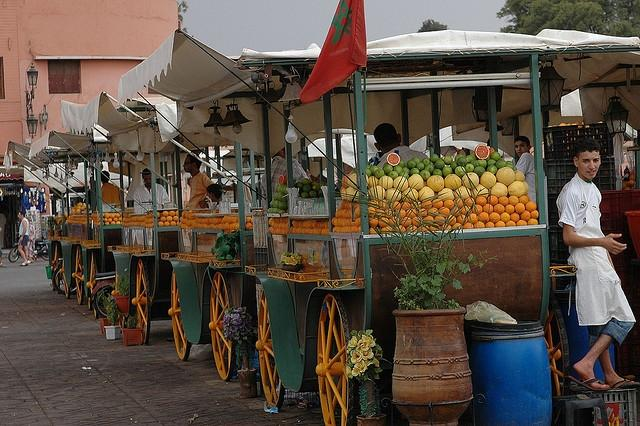lime: (374, 168, 384, 178), (457, 156, 467, 166), (434, 160, 444, 170), (432, 168, 442, 177), (487, 158, 496, 167), (279, 201, 288, 210), (496, 160, 504, 170), (416, 162, 424, 172), (470, 160, 480, 168), (402, 167, 410, 174), (312, 185, 320, 191)
orange: (478, 212, 490, 224), (493, 203, 505, 214), (434, 215, 446, 226), (395, 208, 406, 220), (525, 201, 536, 212), (412, 216, 421, 228), (504, 204, 514, 214), (464, 197, 474, 207), (500, 212, 510, 222), (448, 214, 457, 225), (468, 214, 477, 224), (451, 207, 460, 217), (422, 200, 432, 209), (388, 216, 398, 225), (312, 220, 319, 228), (232, 222, 238, 230), (354, 212, 360, 219), (345, 218, 349, 227), (162, 211, 168, 217), (157, 222, 164, 227), (306, 220, 310, 228), (280, 228, 285, 234), (104, 213, 110, 218), (298, 227, 302, 234), (314, 228, 318, 234), (182, 218, 186, 224), (216, 218, 220, 224), (128, 222, 132, 227), (277, 222, 280, 228), (207, 218, 210, 224), (73, 205, 77, 209), (64, 220, 68, 224), (76, 220, 79, 224), (58, 218, 61, 222), (140, 218, 142, 222), (158, 218, 160, 222), (216, 225, 218, 228), (82, 222, 85, 224)
